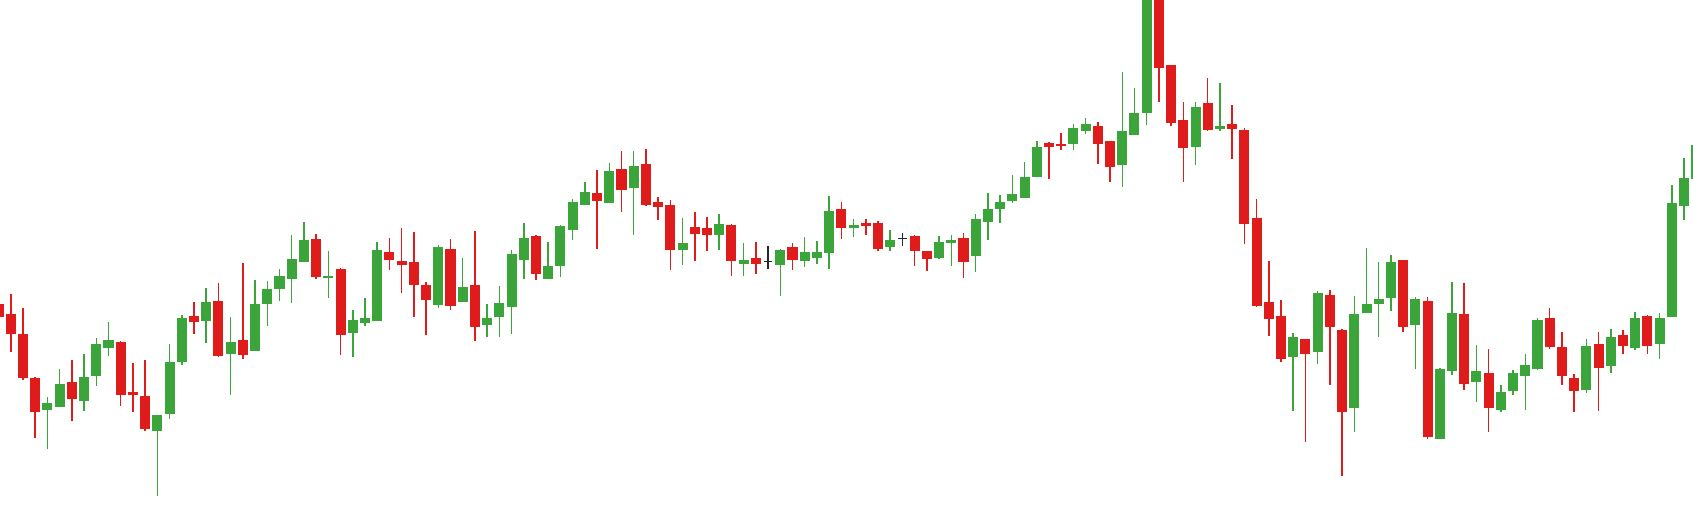buy: (40, 362, 164, 498), (421, 249, 507, 355), (1517, 333, 1595, 428)
